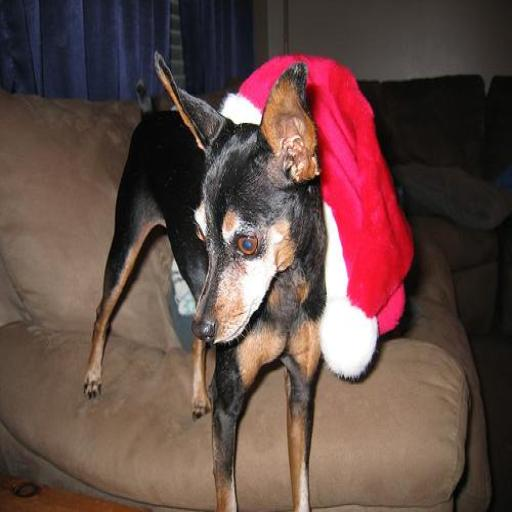dog_face: (149, 55, 317, 352)
